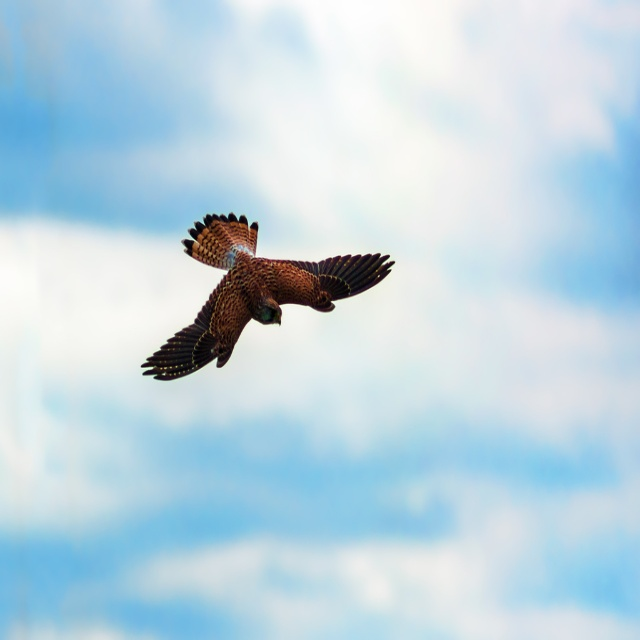Eagle: (142, 210, 397, 384)
